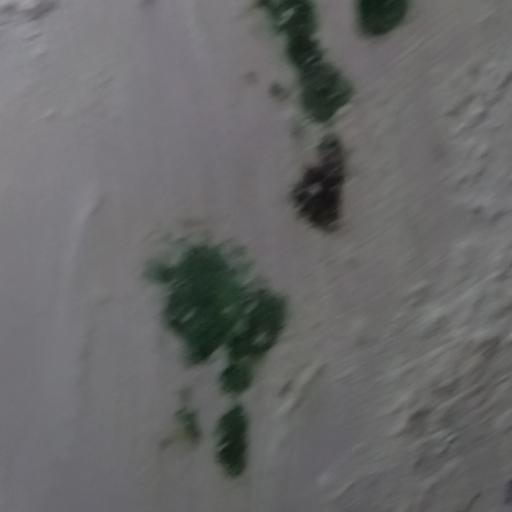algae: (121, 0, 412, 495)
